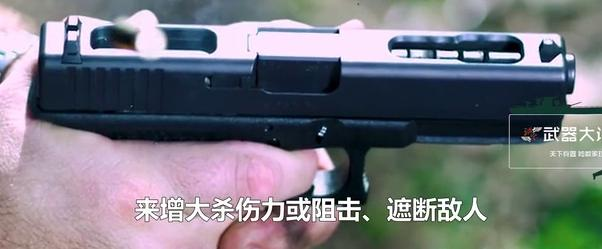gun: (1, 0, 602, 249)
